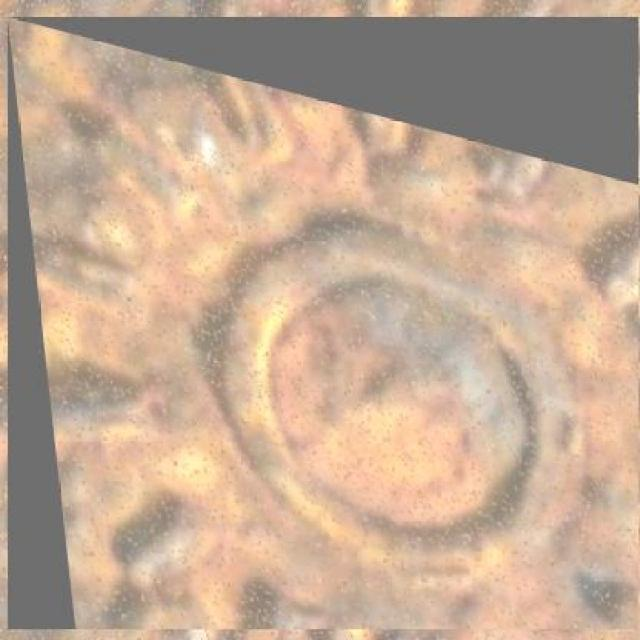Manhole: (7, 16, 638, 630)
